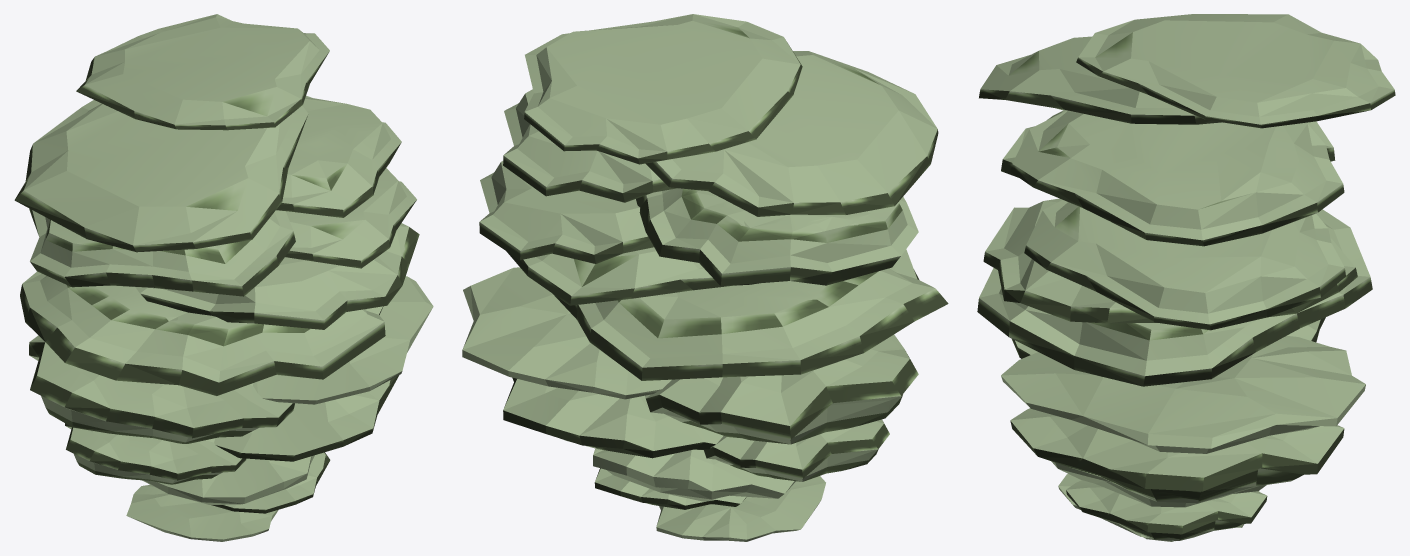
The model's file is EA_Swamp_Fungus_02c.glb.
3 views of the same model, side by side, from view 1: azimuth 30°, elevation 25°; view 2: azimuth 150°, elevation 25°; view 3: azimuth 270°, elevation 25° (orthographic). The views are drawn at different scales.
Visible parts, largest first — view 1: EA_Swamp_Fungus_02c; view 2: EA_Swamp_Fungus_02c; view 3: EA_Swamp_Fungus_02c.
Part boxes in pixels (x1,y1,x2,y2): EA_Swamp_Fungus_02c: [14, 14, 433, 541]; EA_Swamp_Fungus_02c: [462, 14, 948, 541]; EA_Swamp_Fungus_02c: [977, 14, 1395, 541].
Size of the model in its own units: 1.32 by 1.36 by 1.07.
Materials: 1 (1 with a texture image).
